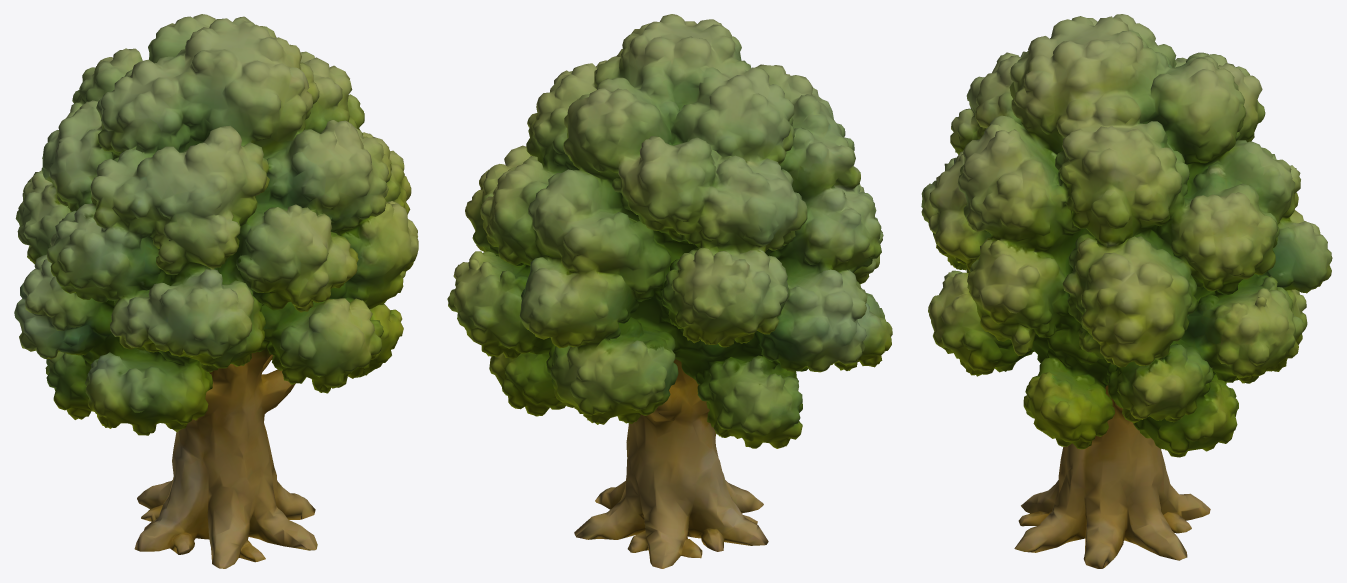
File: nat_tree_oak_v1.glb
3 renders of one model, left to right at view 1: azimuth 30°, elevation 25°; view 2: azimuth 150°, elevation 25°; view 3: azimuth 270°, elevation 25°, orthographic.
Visible parts, largest first — view 1: tripo_node_fc168075-6300-42cf-9d77-3f85337bd231; view 2: tripo_node_fc168075-6300-42cf-9d77-3f85337bd231; view 3: tripo_node_fc168075-6300-42cf-9d77-3f85337bd231.
Boxes of the visible parts, box(x1,y1,x2,y2) form: tripo_node_fc168075-6300-42cf-9d77-3f85337bd231: box(14, 14, 418, 568); tripo_node_fc168075-6300-42cf-9d77-3f85337bd231: box(447, 14, 892, 568); tripo_node_fc168075-6300-42cf-9d77-3f85337bd231: box(921, 14, 1332, 568).
Bounding box in the file's own units: 0.8004 × 0.9812 × 0.7295.
Materials: 1 (1 with a texture image).
